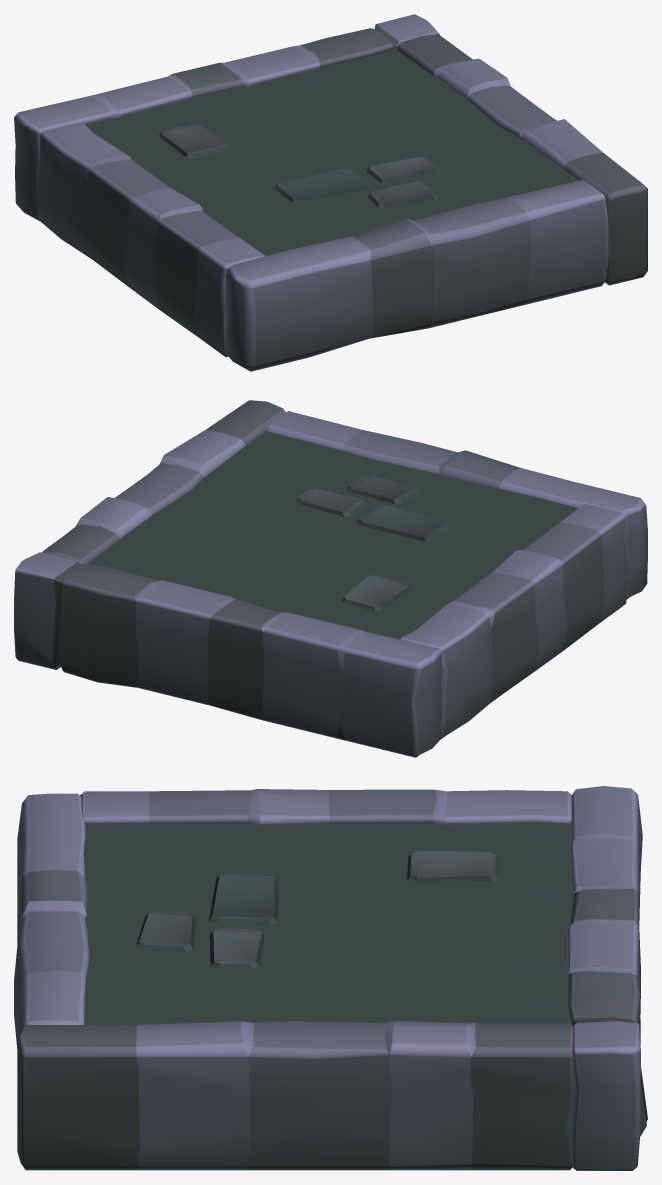
File: dungeon_base.fbx
3 renders of one model, top to bottom at view 1: azimuth 30°, elevation 25°; view 2: azimuth 150°, elevation 25°; view 3: azimuth 270°, elevation 25°, orthographic. The views are drawn at different scales.
Visible parts, largest first — view 1: human_foundation_4x5, human_foundation_4x5.002, human_foundation_4x5.001, human_foundation_4x5.004, human_foundation_4x5.003; view 2: human_foundation_4x5, human_foundation_4x5.004, human_foundation_4x5.001, human_foundation_4x5.002, human_foundation_4x5.003; view 3: human_foundation_4x5, human_foundation_4x5.003, human_foundation_4x5.004, human_foundation_4x5.001, human_foundation_4x5.002.
Boxes of the visible parts, left/top/right/bottom form: human_foundation_4x5: left=86, top=47, right=578, bottom=255; human_foundation_4x5.002: left=225, top=179, right=608, bottom=371; human_foundation_4x5.001: left=37, top=122, right=265, bottom=357; human_foundation_4x5.004: left=14, top=14, right=439, bottom=221; human_foundation_4x5.003: left=396, top=34, right=647, bottom=285; human_foundation_4x5: left=88, top=430, right=578, bottom=639; human_foundation_4x5.004: left=14, top=552, right=442, bottom=757; human_foundation_4x5.001: left=399, top=504, right=629, bottom=739; human_foundation_4x5.002: left=266, top=411, right=647, bottom=599; human_foundation_4x5.003: left=42, top=400, right=285, bottom=565; human_foundation_4x5: left=84, top=823, right=572, bottom=1024; human_foundation_4x5.003: left=17, top=1021, right=574, bottom=1170; human_foundation_4x5.004: left=566, top=786, right=647, bottom=1170; human_foundation_4x5.001: left=80, top=789, right=571, bottom=825; human_foundation_4x5.002: left=14, top=793, right=89, bottom=1048.
Bounding box in the file's own units: 514 × 518 × 120.
Materials: 1 (1 with a texture image).
